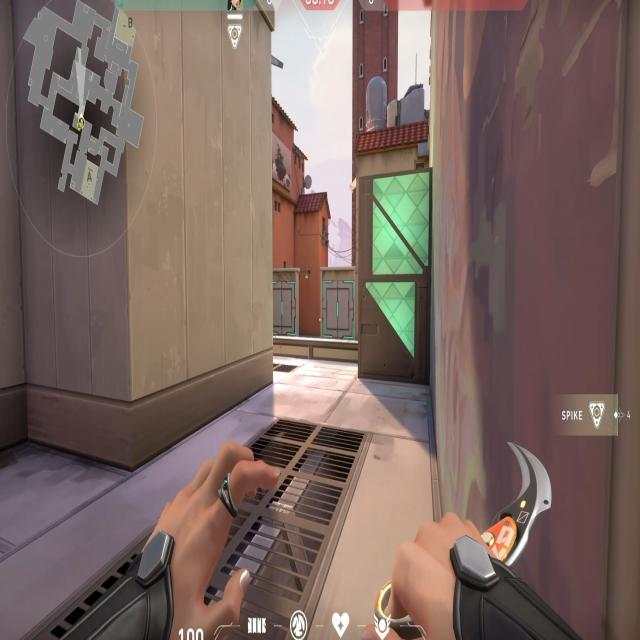Mid_Wall: (324, 274, 356, 342), (274, 281, 296, 335)
